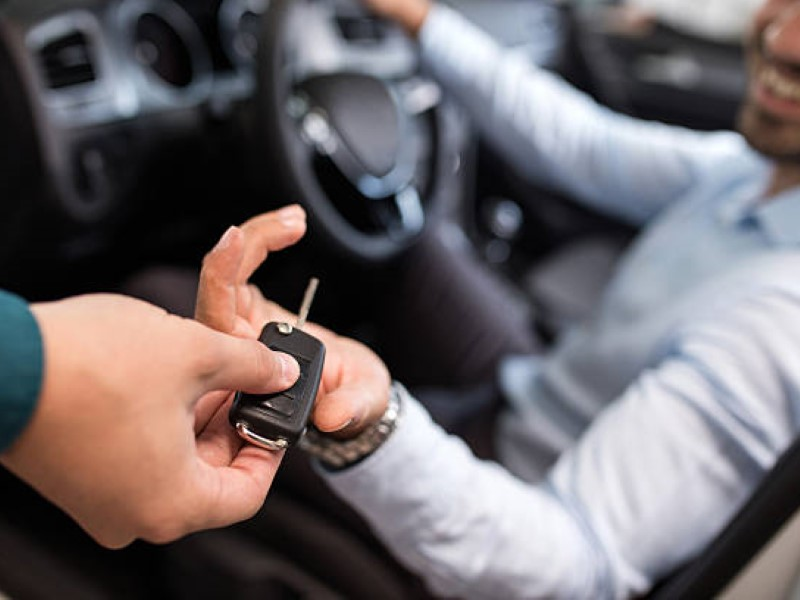carkey: (224, 271, 329, 453)
